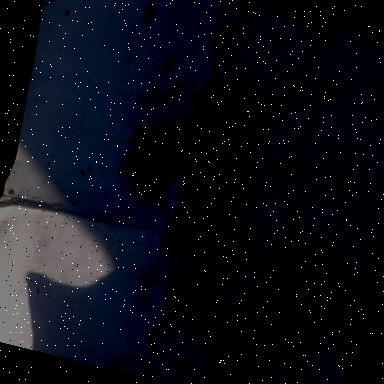pbw: (195, 97, 232, 123), (156, 147, 175, 187), (213, 24, 233, 60), (199, 116, 227, 140), (138, 186, 168, 208), (207, 134, 229, 163), (188, 167, 213, 191), (122, 177, 148, 200), (174, 140, 190, 176), (204, 190, 223, 220), (191, 138, 216, 160), (233, 182, 249, 212), (228, 141, 248, 164), (149, 153, 166, 180), (227, 100, 248, 121), (219, 134, 237, 158), (148, 146, 166, 170), (242, 110, 260, 134), (166, 147, 182, 174), (158, 169, 176, 192), (141, 0, 157, 25), (167, 125, 186, 146), (218, 207, 233, 233), (136, 137, 150, 163), (195, 192, 210, 216), (129, 144, 142, 170), (242, 128, 255, 154), (209, 156, 225, 177), (217, 195, 235, 213), (194, 226, 216, 240), (230, 92, 249, 108), (208, 174, 220, 199), (226, 158, 242, 176), (117, 154, 130, 176), (202, 212, 222, 226), (139, 127, 157, 142), (220, 186, 240, 199), (222, 124, 236, 142), (218, 177, 239, 189), (198, 220, 218, 232), (234, 126, 246, 146), (125, 147, 136, 168), (132, 130, 146, 143), (167, 140, 182, 152), (151, 130, 165, 142), (194, 118, 204, 129)
